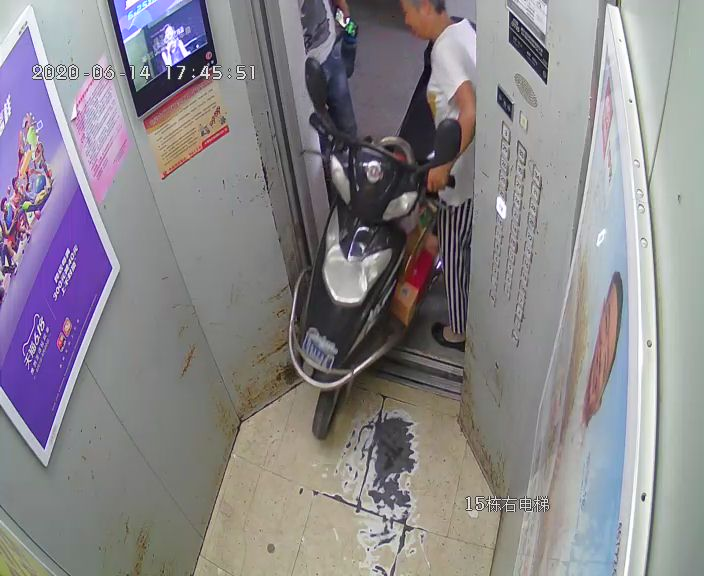Electric-bicycle: (288, 28, 475, 437)
